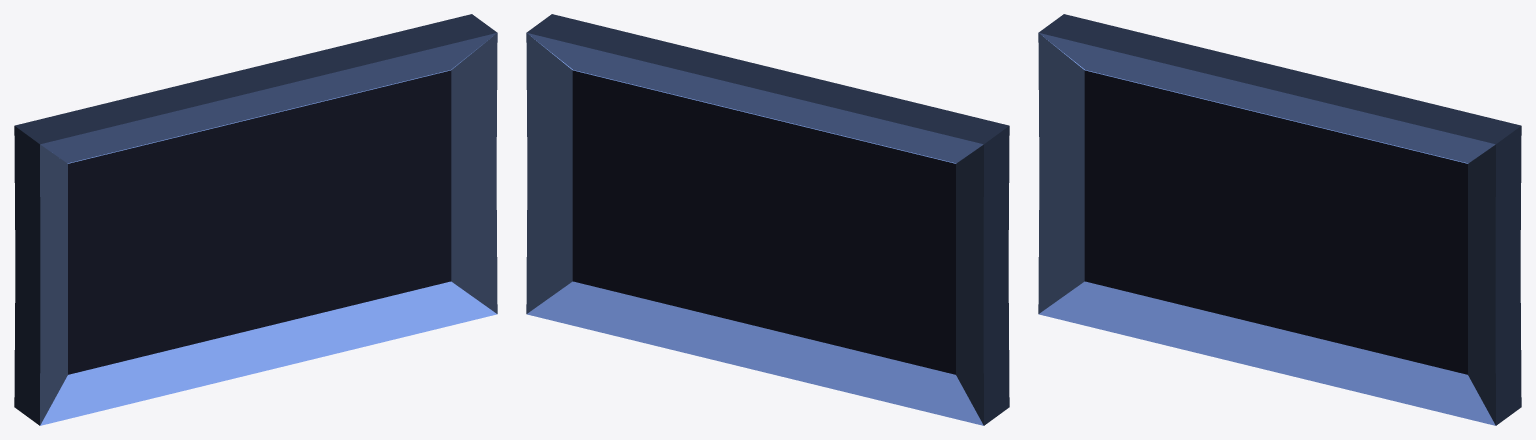
The model's file is window.fbx.
3 views of the same model, side by side, from view 1: azimuth 30°, elevation 25°; view 2: azimuth 150°, elevation 25°; view 3: azimuth 330°, elevation 25° (orthographic).
Parts seen in each view (by area): view 1: Window; view 2: Window; view 3: Window.
Part boxes in pixels (<box>): Window: <box>14,14,497,425</box>; Window: <box>526,14,1009,425</box>; Window: <box>1038,14,1521,425</box>.
Bounding box in the file's own units: 363 × 214 × 35.16.
1 material, 1 textured.
